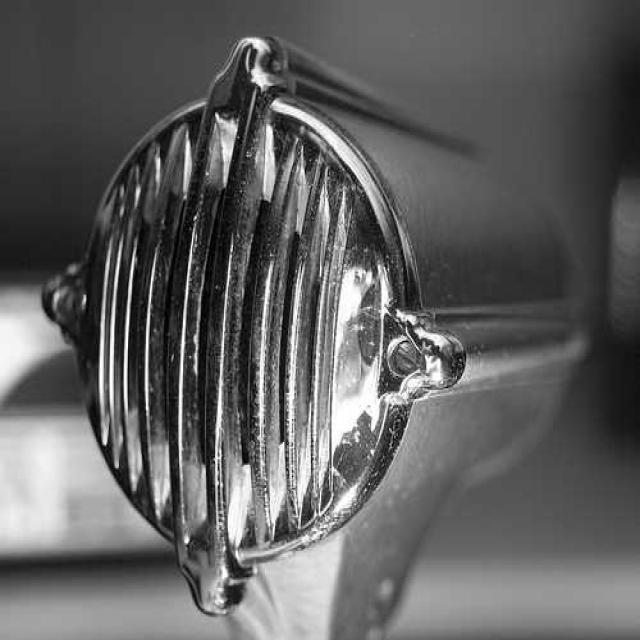microphone: (41, 23, 588, 622)
